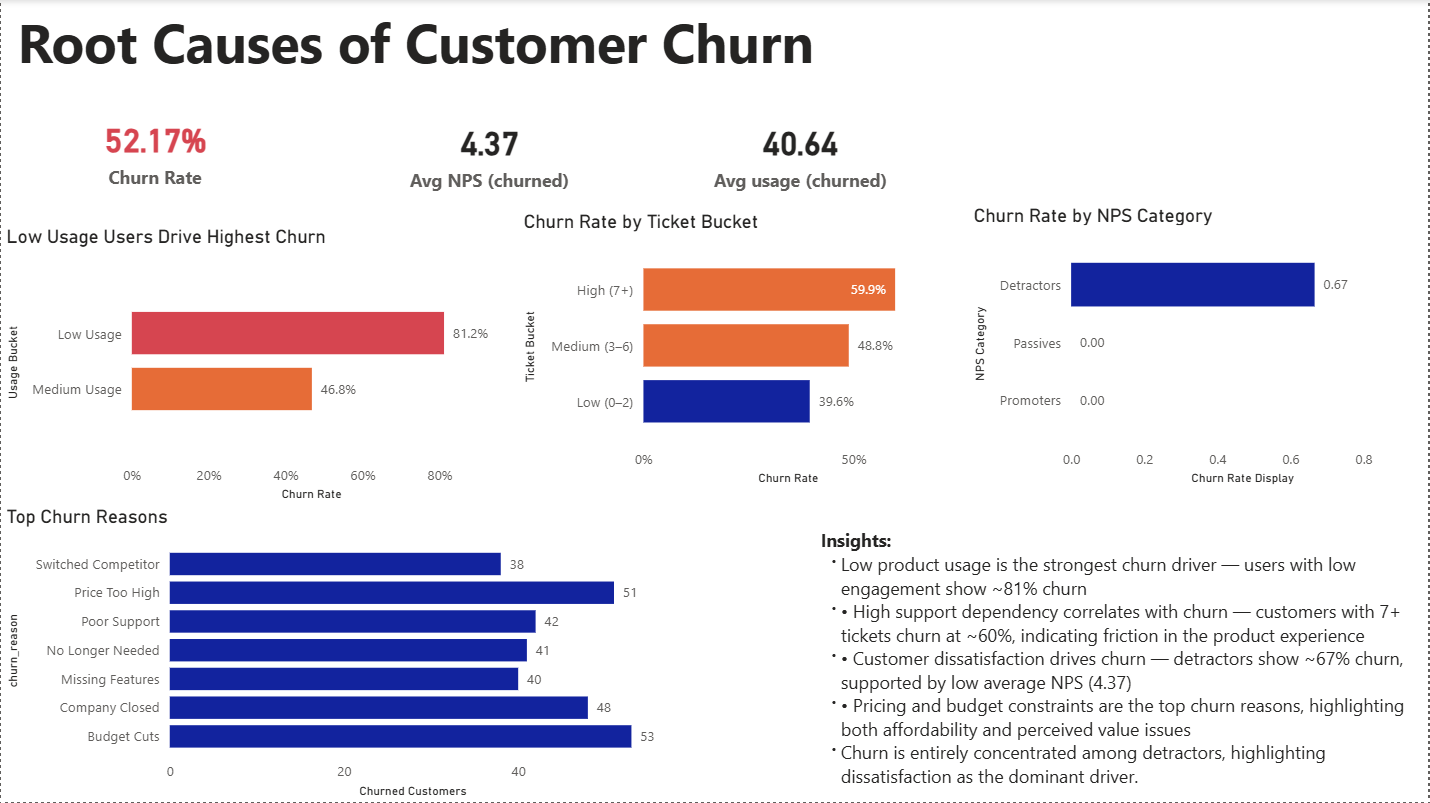

What the dashboard file says about the page in this screenshot:
{"tool":"powerbi","page":{"name":"Root Causes of Churn","canvas":[1280,720],"ordinal":2},"visuals":[{"type":"textbox","box":[9.7,0,819.7,80.5],"z":0},{"type":"clusteredBarChart","title":"Low Usage Users Drive Highest Churn","fields":{"Category":["subscriptions_clean.Usage Bucket"],"Y":["Measures (2).Churn Rate"]},"box":[0,203.1,456.7,250.7],"z":1000},{"type":"barChart","title":"Churn Rate by NPS Category","fields":{"Category":["subscriptions_clean.NPS Category"],"Y":["Measures (2).Churn Rate Display"]},"box":[867.1,183.5,413.2,256.3],"z":2000},{"type":"barChart","fields":{"Y":["Measures (2).Churn Rate"],"Category":["subscriptions_clean.Ticket Bucket"]},"box":[463.7,189.1,389.4,250.7],"z":3000},{"type":"barChart","title":"Top Churn Reasons","fields":{"Category":["subscriptions_clean.churn_reason"],"Y":["Measures (2).Churned Customers"]},"box":[0,453.9,599.5,266.1],"z":4000},{"type":"card","fields":{"Values":["Measures (2).Churn Rate"]},"box":[0,86.8,276,96.7],"z":5000},{"type":"card","fields":{"Values":["Avg(subscriptions_clean.nps_score)"]},"box":[296.8,87,281.6,102.3],"z":6000},{"type":"card","fields":{"Values":["Avg(subscriptions_clean.feature_usage_pct)"]},"box":[579.9,87,273.2,102.3],"z":7000},{"type":"textbox","box":[729.8,469.3,550.5,250.7],"z":8000}]}

Visuals, with their boxes in screenshot pixels (x1, y1, x2, y2), scaled from the page's 1280x720 canvas onto the 1430x803 screenshot:
textbox: left=11, top=0, right=927, bottom=90
"Low Usage Users Drive Highest Churn" clusteredBarChart: left=0, top=227, right=510, bottom=506
"Churn Rate by NPS Category" barChart: left=969, top=205, right=1429, bottom=490
barChart - Measures (2).Churn Rate x subscriptions_clean.Ticket Bucket: left=518, top=211, right=953, bottom=490
"Top Churn Reasons" barChart: left=0, top=506, right=670, bottom=802
card - Measures (2).Churn Rate: left=0, top=97, right=308, bottom=205
card - Avg(subscriptions_clean.nps_score): left=332, top=97, right=646, bottom=211
card - Avg(subscriptions_clean.feature_usage_pct): left=648, top=97, right=953, bottom=211
textbox: left=815, top=523, right=1429, bottom=802
